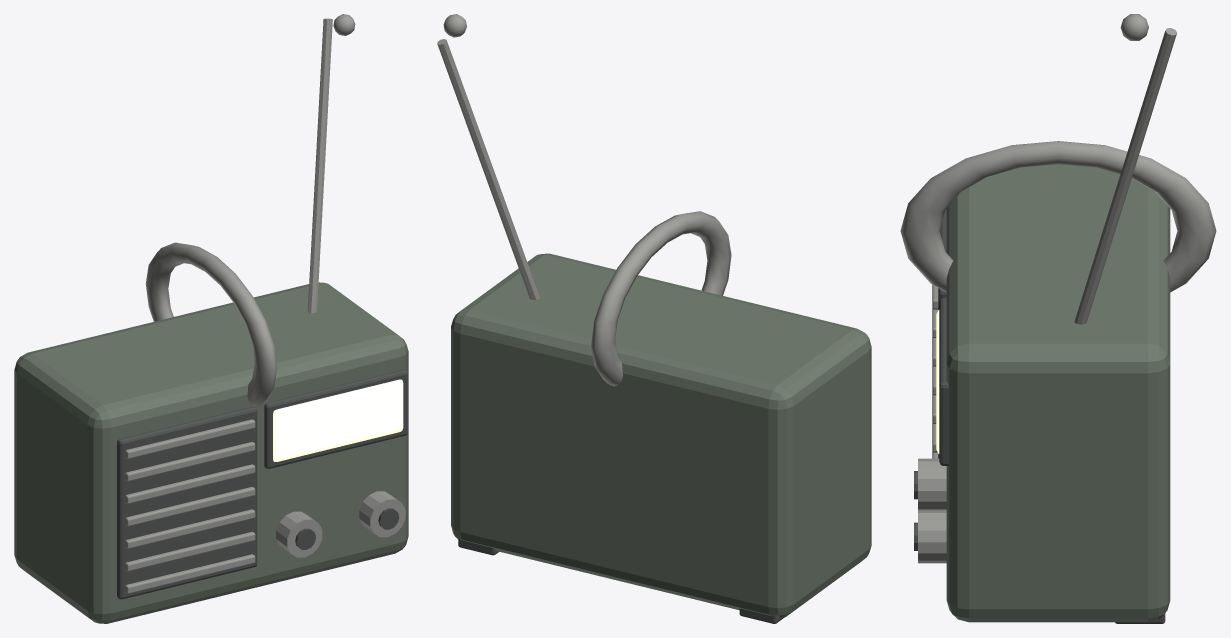
Rendered from radio.glb.
3 views of the same model, side by side, from view 1: azimuth 30°, elevation 25°; view 2: azimuth 150°, elevation 25°; view 3: azimuth 270°, elevation 25° (orthographic). The views are drawn at different scales.
Visible parts, largest first — view 1: radio; view 2: radio; view 3: radio.
Part boxes in pixels (x1,y1,x2,y2): radio: (14,14,408,623); radio: (437,14,871,623); radio: (900,14,1216,623).
Size of the model in its own units: 0.4783 by 0.671 by 0.3104.
